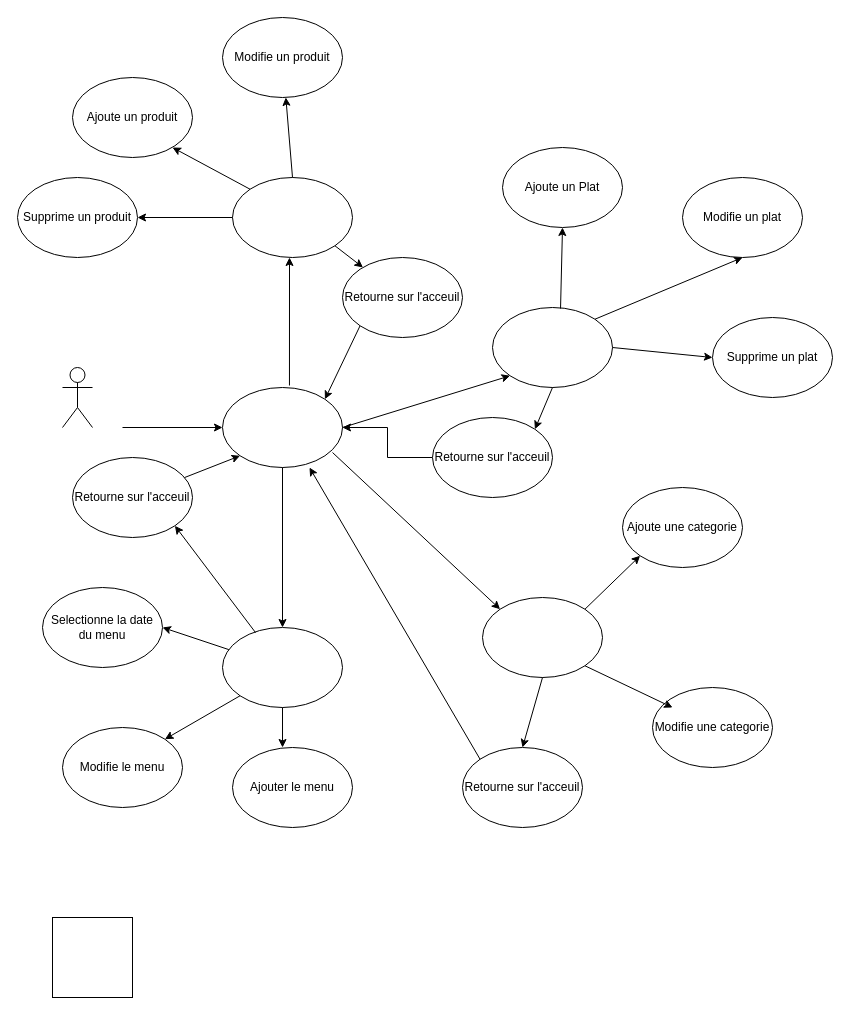
Image size: 850x1015. Some labels were removed from this diagram. The shapes that lost their labels are listed below. From the top down, each one's box as (x1, y1, x2, y2) in pixels, then its label:
(232, 176, 352, 258): voir la liste des produits
(492, 306, 612, 388): Voir la liste des plats
(62, 366, 92, 428): Utilisateur
(222, 386, 342, 468): Entrer dans les différentes zone de l'application
(482, 596, 602, 678): voir la liste des categories
(222, 626, 342, 708): Voir le Menu
